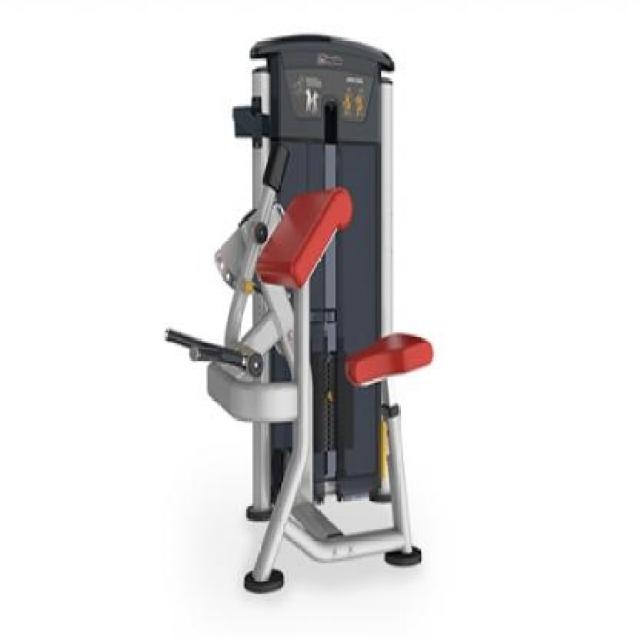arm curl machine: (164, 31, 433, 594)
